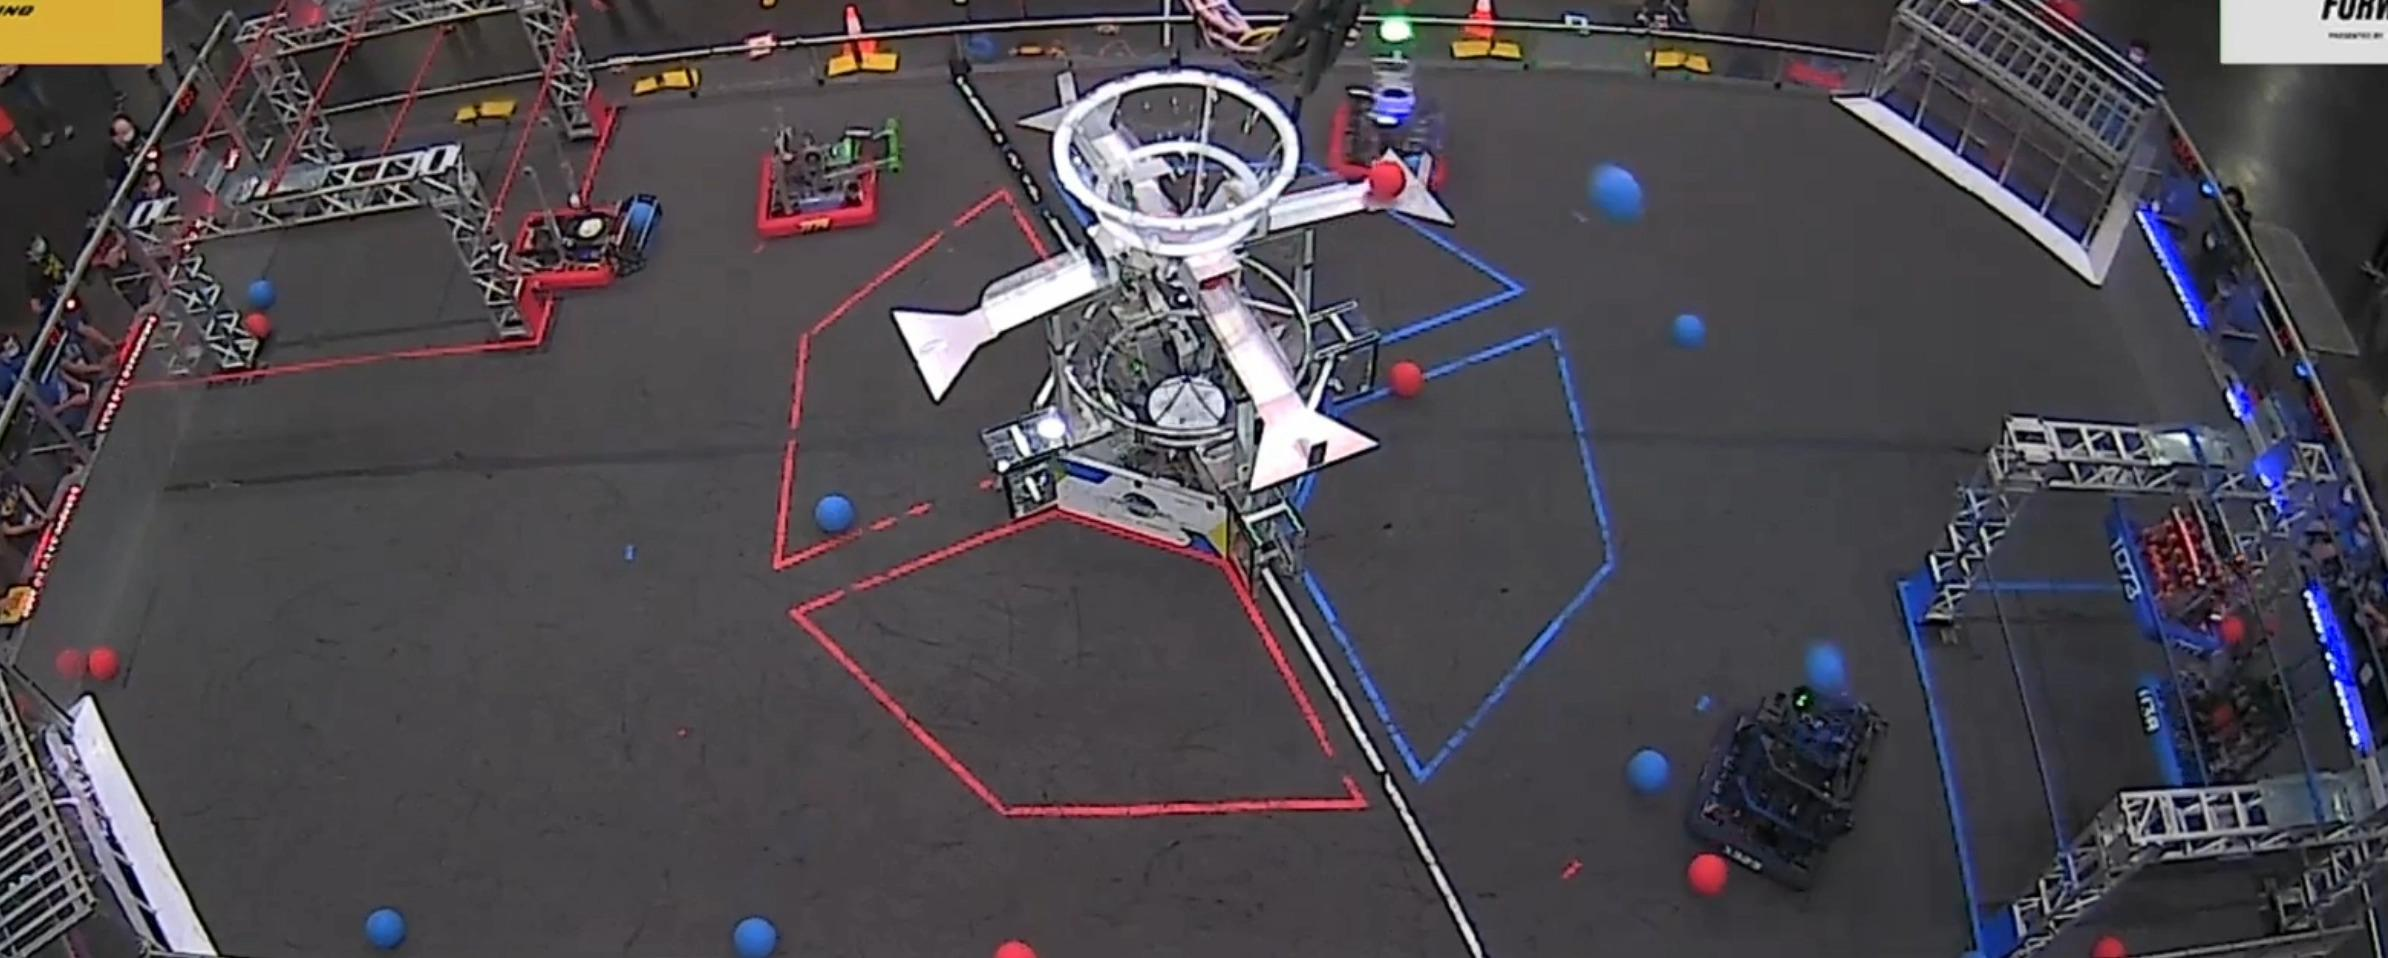Robots: (1681, 682, 1881, 896), (2138, 615, 2367, 786), (2103, 484, 2336, 629), (758, 113, 899, 235), (509, 190, 662, 294), (1325, 81, 1448, 196)
